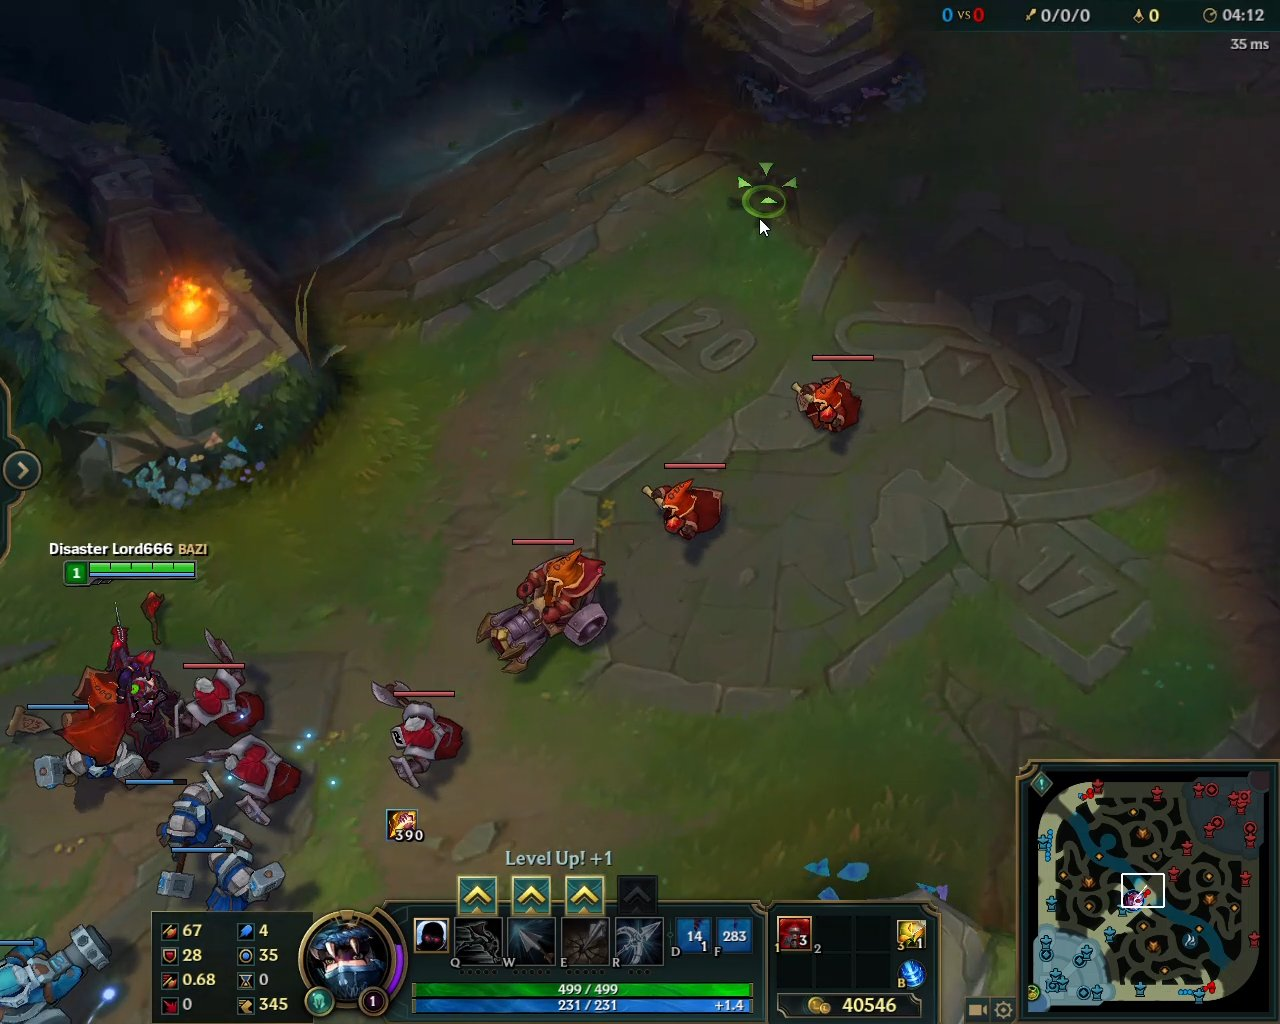EnemyMinion: (469, 527, 615, 679), (372, 672, 465, 790), (180, 632, 267, 745), (786, 355, 875, 445), (642, 461, 726, 541)
Vayne: (59, 594, 183, 773)
